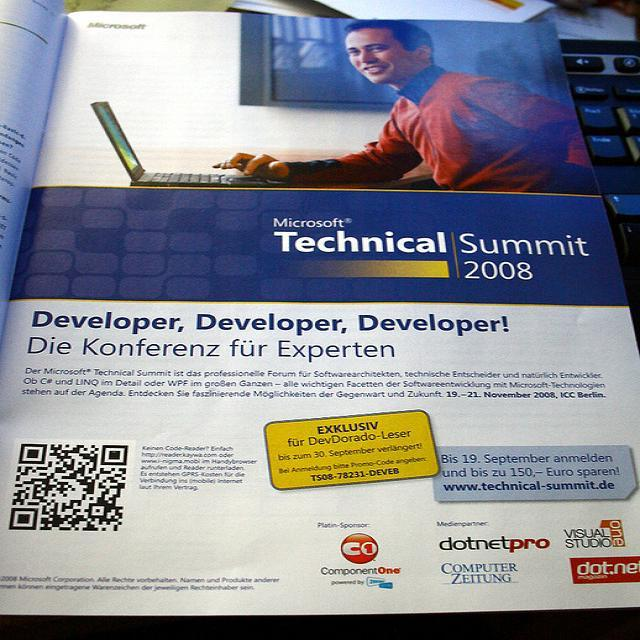qr-code: (8, 444, 128, 530)
